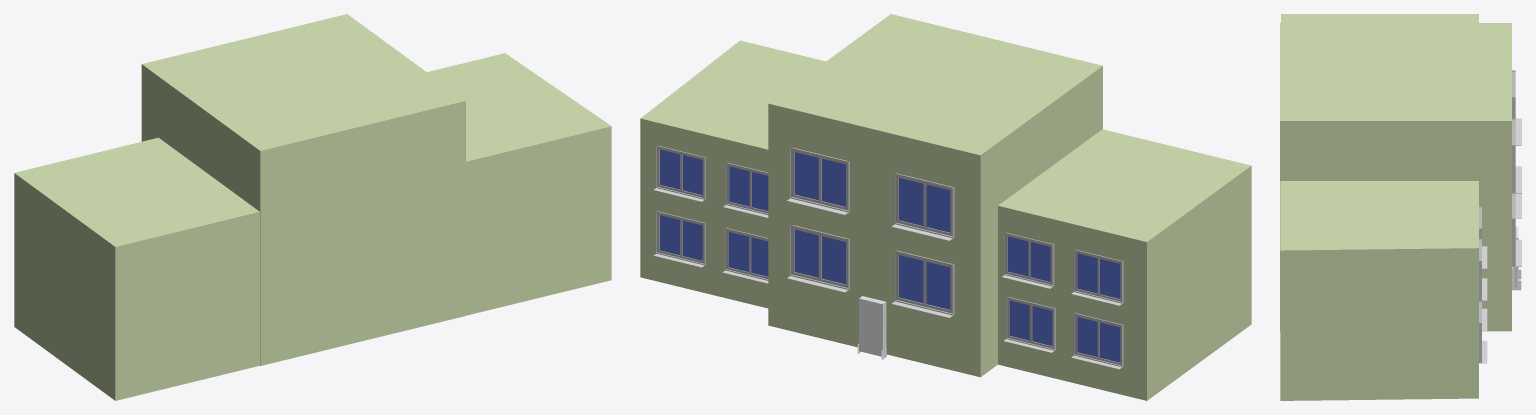
The model's file is School.fbx.
The picture shows the model from 3 angles, left to right: view 1: azimuth 30°, elevation 25°; view 2: azimuth 150°, elevation 25°; view 3: azimuth 270°, elevation 25°; orthographic projection. The views are drawn at different scales.
Parts seen in each view (by area): view 1: Cube.002; view 2: Cube.002, CTRL_Hole, Window.L.004, Window.L.003, Window.L.002, Window.L.005, Window.L.006, Window.L, Window.L.001, Window.L.007, Window.L.010, Window.L.020 (+18 smaller); view 3: Cube.002, WindowFrame.003, WindowFrame.
Boxes of the visible parts, x1,y1,x2,y2 form: Cube.002: (14, 14, 611, 400); Cube.002: (640, 14, 1251, 400); CTRL_Hole: (859, 296, 886, 356); Window.L.004: (923, 181, 952, 235); Window.L.003: (923, 259, 952, 313); Window.L.002: (896, 252, 925, 306); Window.L.005: (896, 175, 925, 228); Window.L.006: (792, 149, 820, 203); Window.L: (819, 234, 847, 287); Window.L.001: (792, 227, 820, 280); Window.L.007: (819, 156, 847, 210); Window.L.010: (657, 147, 681, 192); Window.L.020: (1097, 256, 1121, 301); Cube.002: (1280, 14, 1511, 400); WindowFrame.003: (1512, 118, 1515, 192); WindowFrame: (1512, 193, 1515, 266).
Size of the model in its own units: 177 by 73.99 by 76.29.
